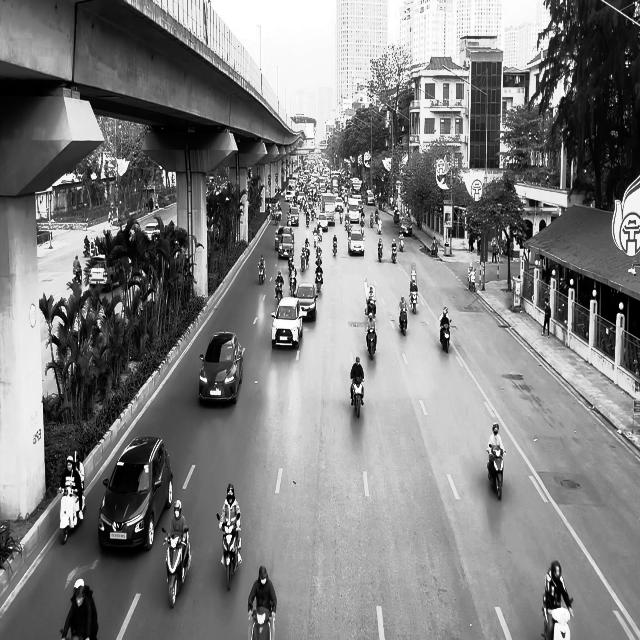car: (98, 436, 173, 552), (198, 330, 246, 404), (271, 296, 303, 349), (296, 282, 318, 322), (348, 229, 365, 256), (144, 222, 160, 242)
motorbike: (162, 526, 192, 608), (217, 513, 242, 591), (58, 483, 84, 544), (542, 592, 574, 640), (488, 445, 506, 500), (250, 607, 274, 639), (350, 376, 364, 418), (440, 322, 451, 353), (366, 328, 377, 359), (399, 307, 408, 335), (316, 266, 324, 292), (410, 289, 418, 314), (289, 272, 297, 296), (73, 263, 82, 284), (468, 270, 476, 292), (258, 264, 266, 284), (391, 244, 397, 263), (332, 238, 338, 256), (378, 243, 383, 262)
